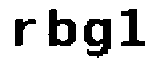1: (119, 5, 147, 51)
b: (47, 7, 76, 49)
g: (82, 17, 115, 60)
r: (12, 18, 40, 48)
